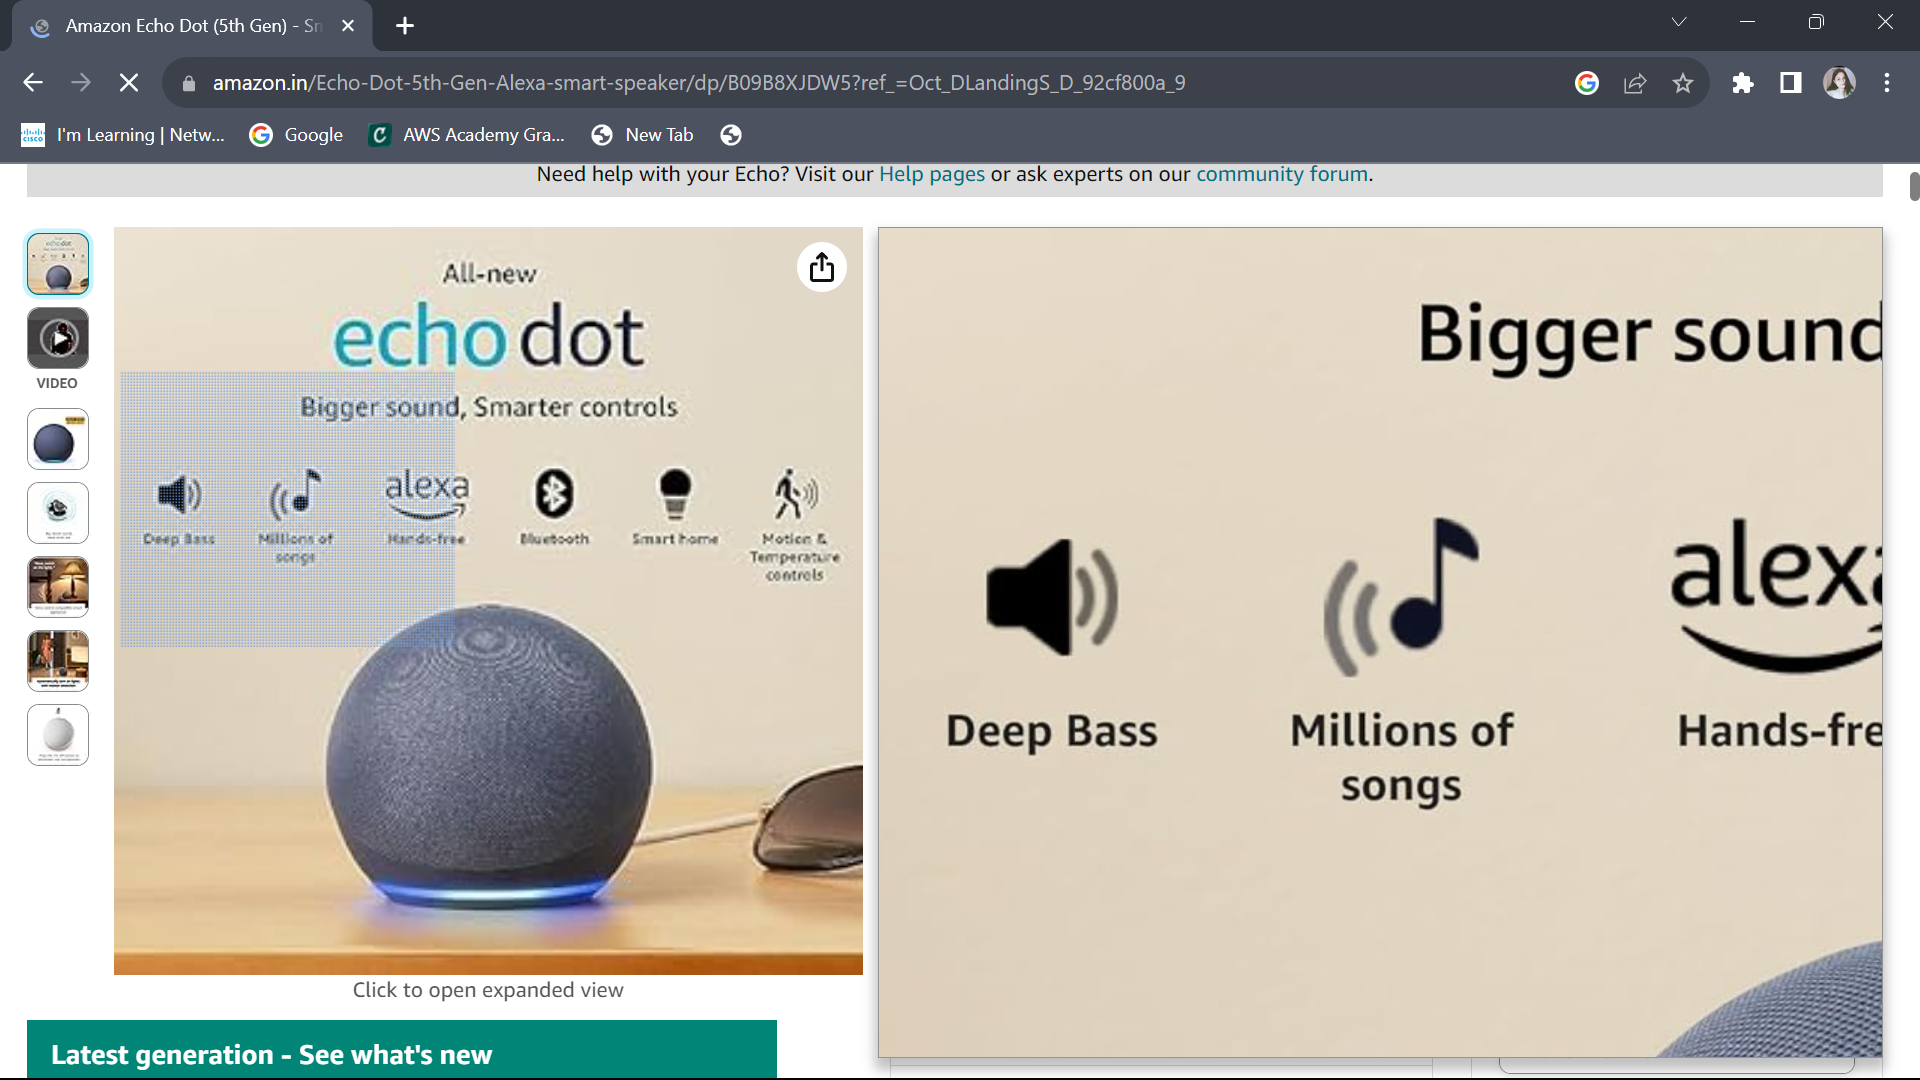Image: (319, 612, 860, 964), (1630, 463, 1882, 678), (956, 522, 1216, 708), (1287, 493, 1499, 696)
Paragraph: (262, 251, 690, 376), (1240, 692, 1556, 831), (1658, 687, 1894, 851), (919, 711, 1185, 777), (274, 392, 704, 425), (251, 520, 352, 585), (746, 526, 843, 588), (628, 522, 716, 576), (382, 526, 489, 562), (137, 534, 233, 562), (513, 534, 612, 550), (699, 541, 737, 543)
